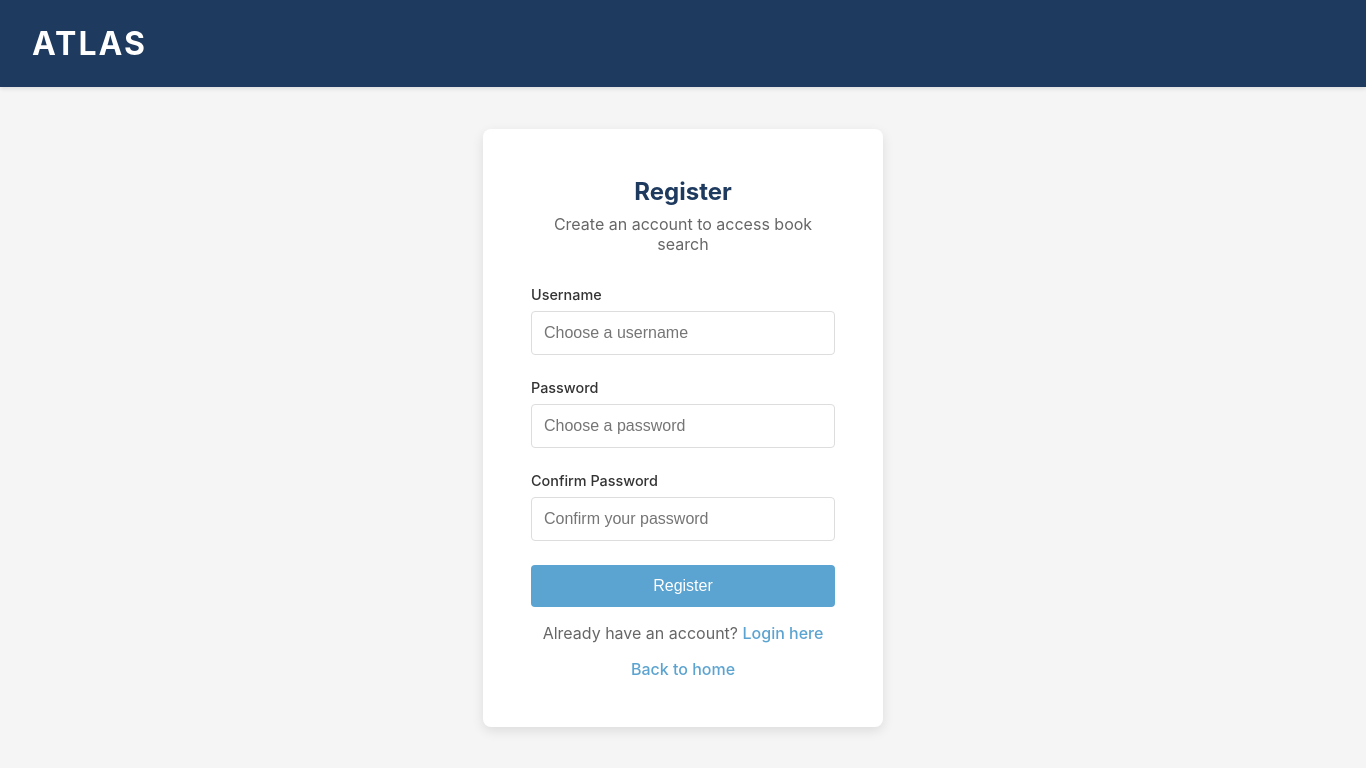
RegisterPage › Form Validation › should show error for short password
This screenshot has width=1366, height=768.
Type "testuser" into the field labelled "Username" at {"x": 683, "y": 332}, box [531,310,835,354]
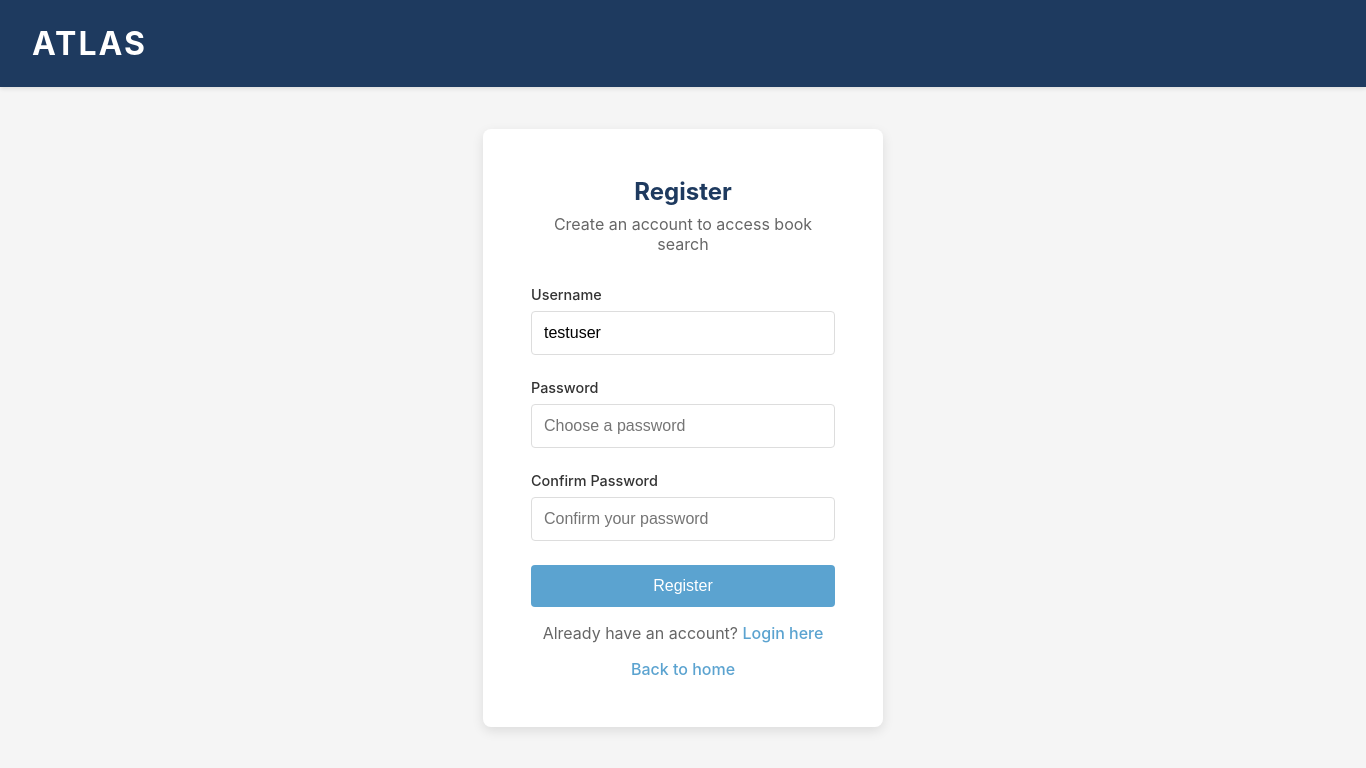
Type "12345" into the password field labelled "Password" at {"x": 683, "y": 426}, box [531,404,835,448]
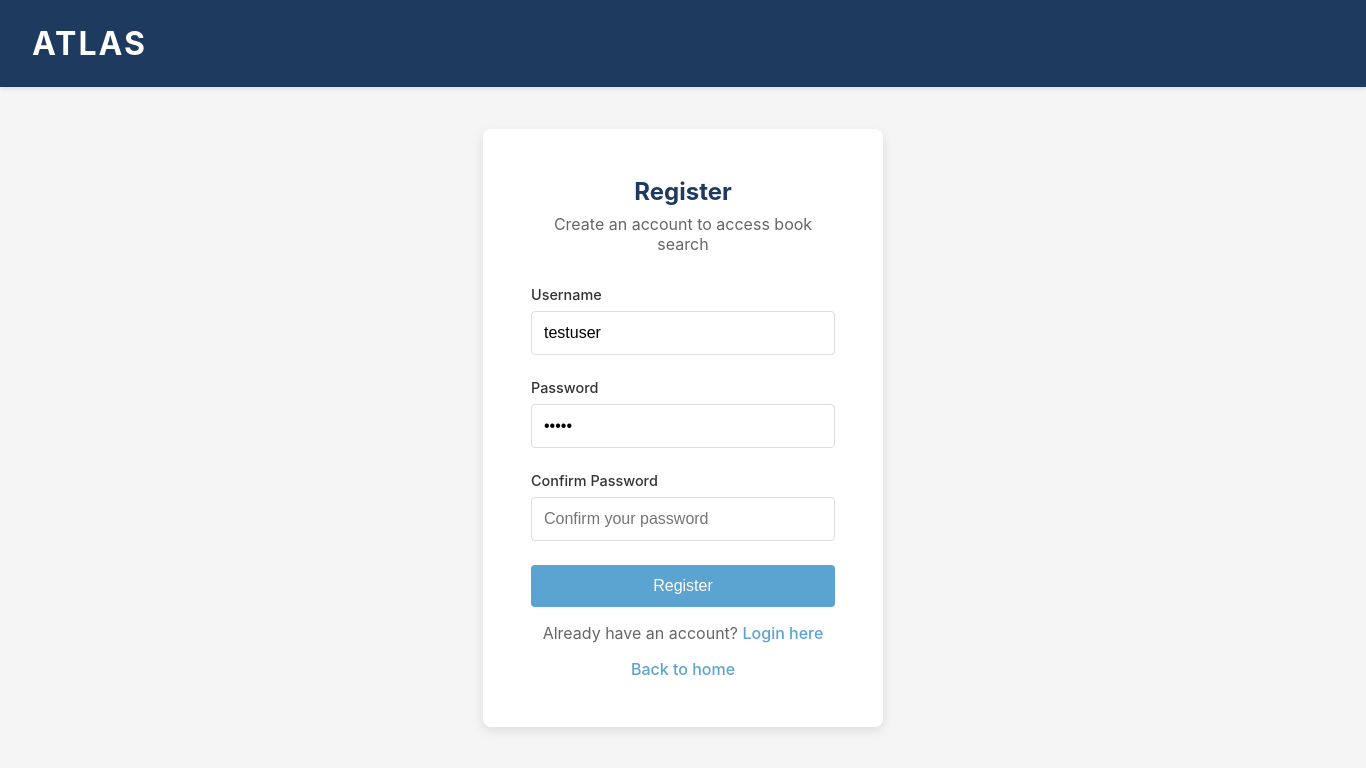
Type "12345" into the password field labelled "Confirm Password" at {"x": 683, "y": 518}, box [531,496,835,540]
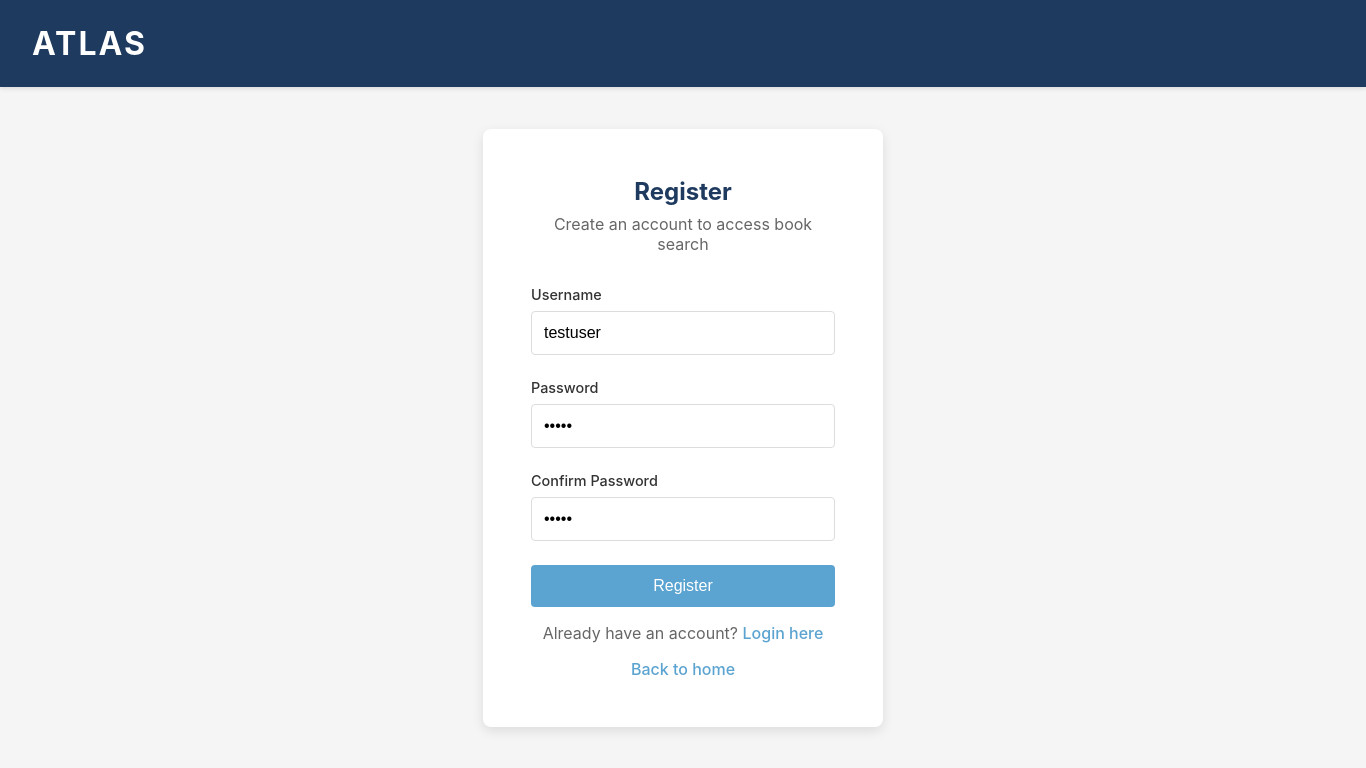
Click the button "Register" at {"x": 683, "y": 586}, box [531,564,835,606]
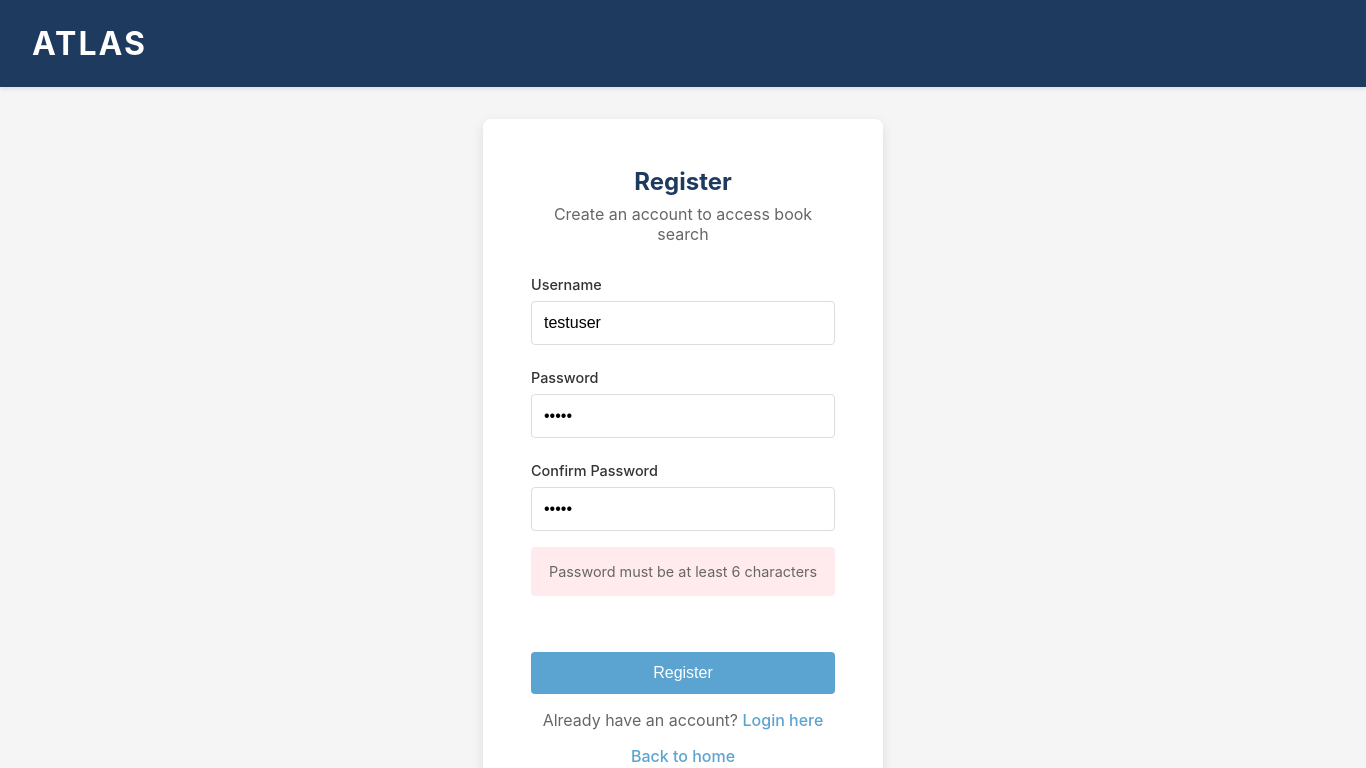
Expected: the text "Password must be at least 6 characters" is shown, [531,547,835,596]
